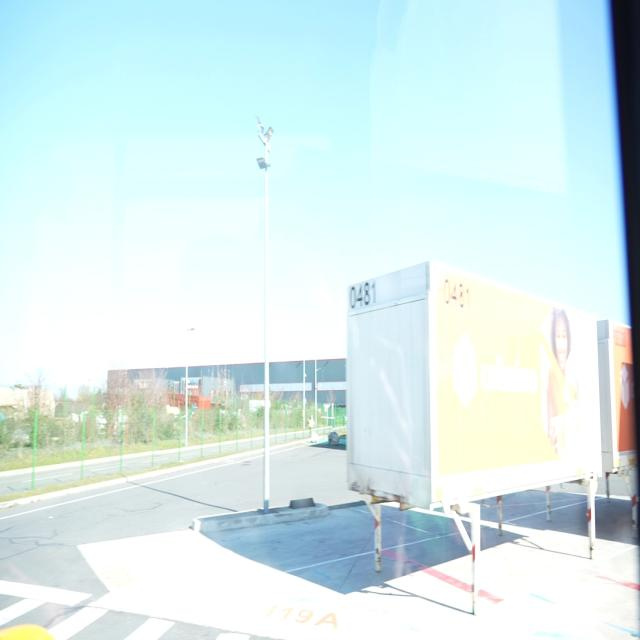Code: (346, 280, 384, 313)
